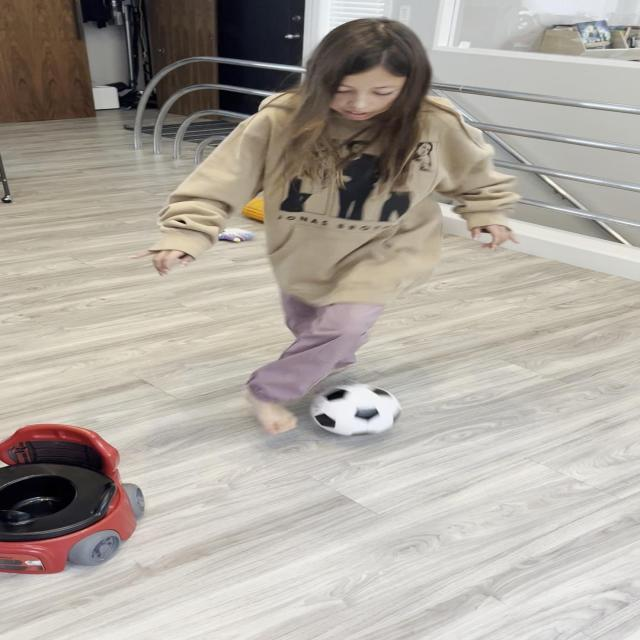Soccer Ball: (310, 385, 401, 435)
